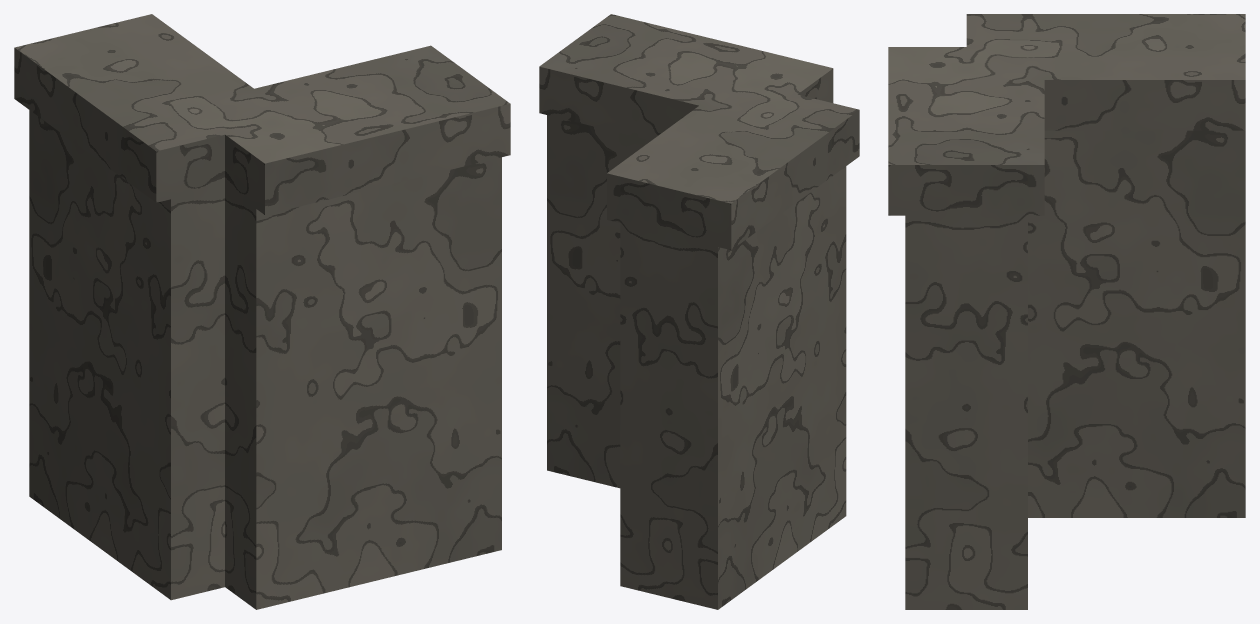
Rendered from parapet_inner_corner.glb.
3 views of the same model, side by side, from view 1: azimuth 30°, elevation 25°; view 2: azimuth 150°, elevation 25°; view 3: azimuth 270°, elevation 25° (orthographic). The views are drawn at different scales.
Visible parts, largest first — view 1: parapet_inner_corner; view 2: parapet_inner_corner; view 3: parapet_inner_corner.
Part boxes in pixels (x1,y1,x2,y2): parapet_inner_corner: (14, 14, 510, 609); parapet_inner_corner: (539, 14, 859, 609); parapet_inner_corner: (888, 14, 1245, 609).
Bounding box in the file's own units: 0.64 × 0.88 × 0.64.
Materials: 1 (1 with a texture image).
